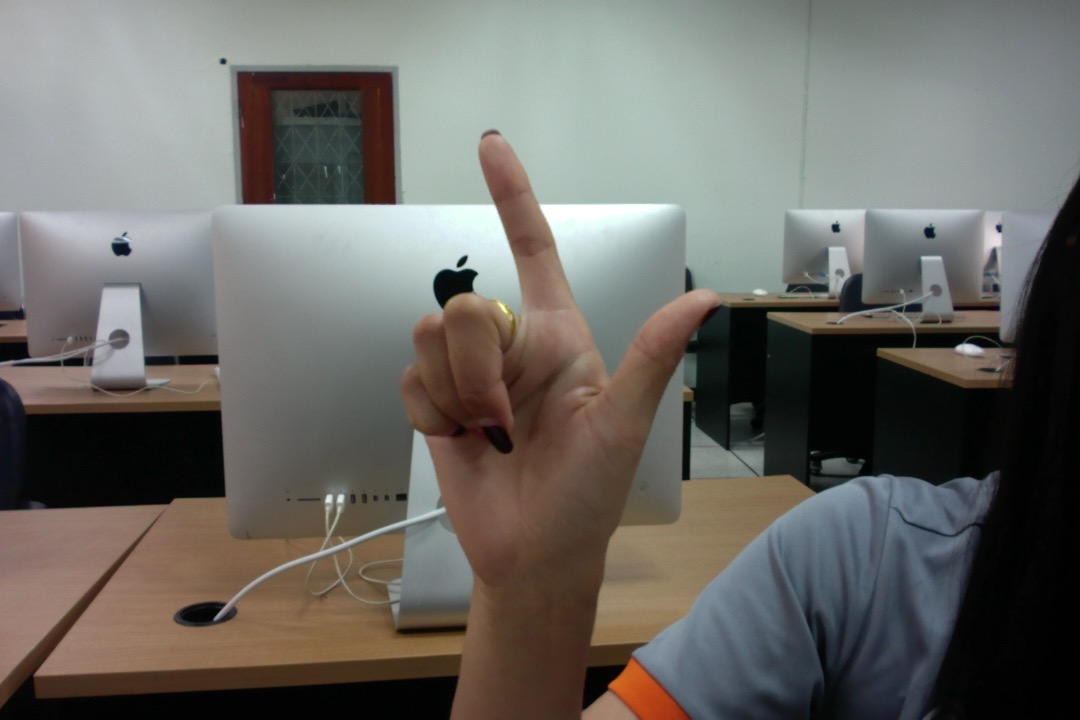lor: (373, 118, 727, 603)
